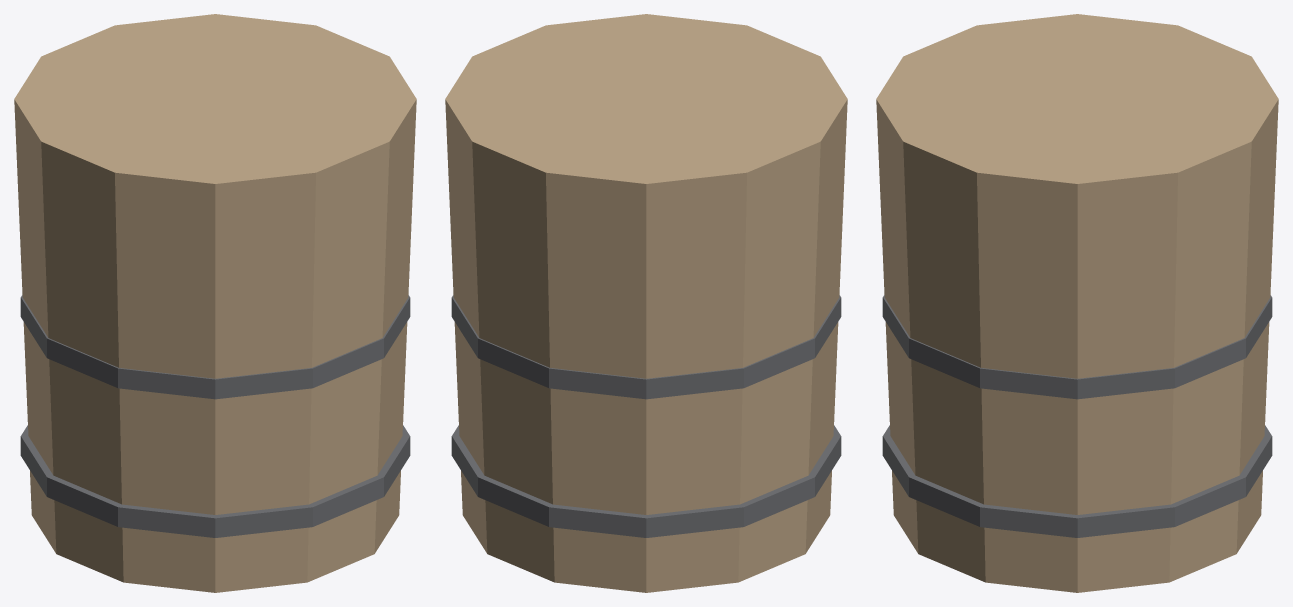
File: deploy_barrel.glb
3 renders of one model, left to right at view 1: azimuth 30°, elevation 25°; view 2: azimuth 150°, elevation 25°; view 3: azimuth 270°, elevation 25°, orthographic.
Visible parts, largest first — view 1: deploy_barrel; view 2: deploy_barrel; view 3: deploy_barrel.
Part boxes in pixels (box(x1,y1,x2,y2)): deploy_barrel: box(14, 14, 416, 592); deploy_barrel: box(445, 14, 847, 592); deploy_barrel: box(876, 14, 1278, 592).
Bounding box in the file's own units: 0.92 × 1.05 × 0.92.
